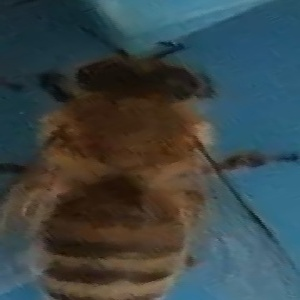bee: (10, 26, 297, 300)
